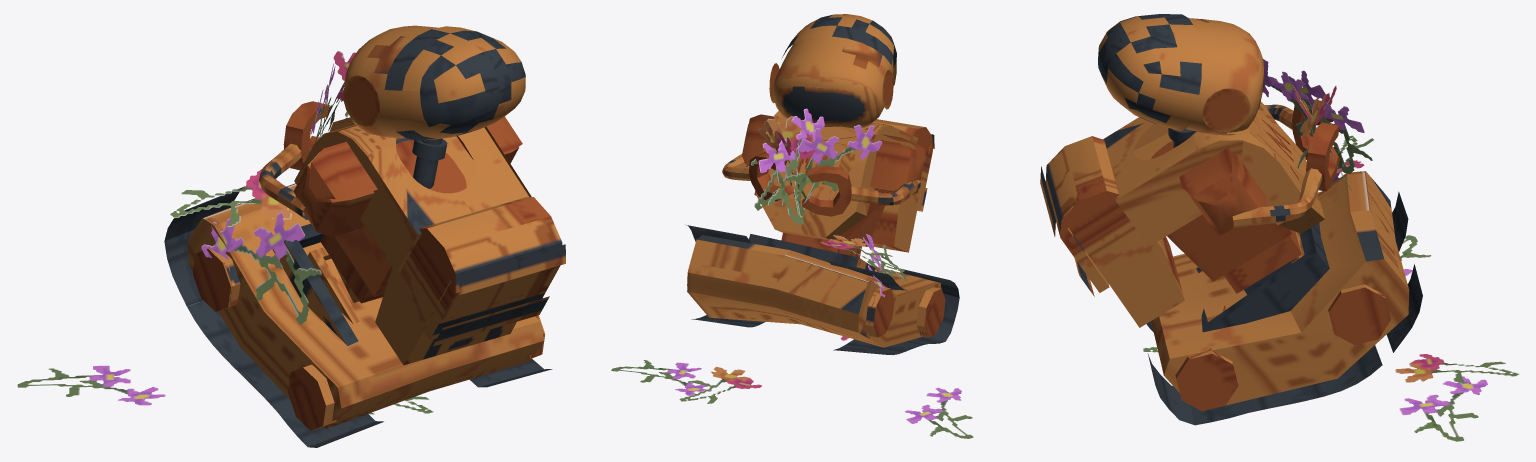
Rendered from factory.fbx.
3 views of the same model, side by side, from view 1: azimuth 30°, elevation 25°; view 2: azimuth 150°, elevation 25°; view 3: azimuth 270°, elevation 25° (orthographic). The views are drawn at different scales.
Visible parts, largest first — view 1: 立方体.040; view 2: 立方体.040; view 3: 立方体.040.
Boxes of the visible parts, <box> form: 立方体.040: <box>17,25,565,447</box>; 立方体.040: <box>611,14,973,438</box>; 立方体.040: <box>1040,14,1519,441</box>.
Bounding box in the file's own units: 680 × 509 × 619.
Materials: 1 (1 with a texture image).
